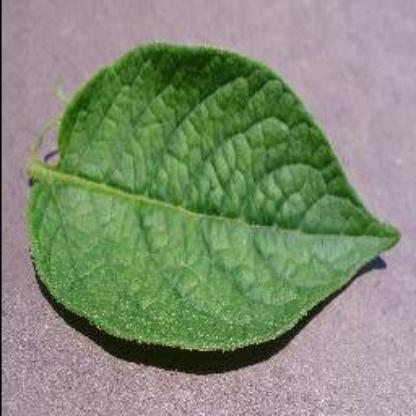Healthy-plant: (19, 29, 404, 363)
